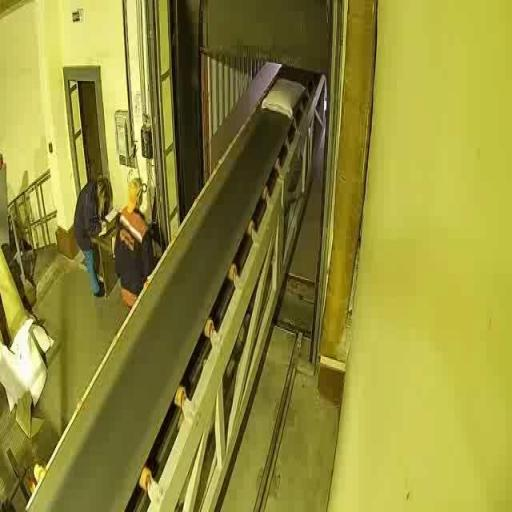c-belt-sack-count: (262, 78, 305, 118)
